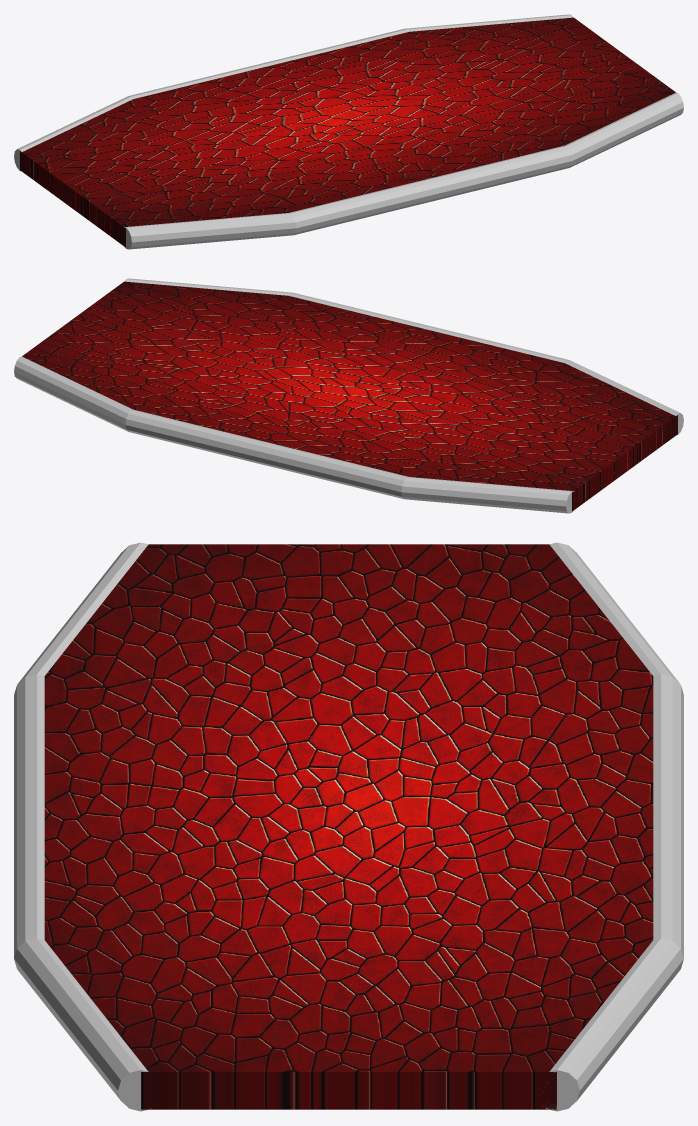
3 renders of one model, top to bottom at view 1: azimuth 30°, elevation 25°; view 2: azimuth 150°, elevation 25°; view 3: azimuth 270°, elevation 25°, orthographic. The views are drawn at different scales.
Parts seen in each view (by area): view 1: SPlatform; view 2: SPlatform; view 3: SPlatform.
Part boxes in pixels (x1=…): SPlatform: x1=14, y1=14, x2=683, y2=249; SPlatform: x1=14, y1=278, x2=683, y2=513; SPlatform: x1=14, y1=542, x2=683, y2=1111.
Bounding box in the file's own units: 1200 × 44 × 644.
